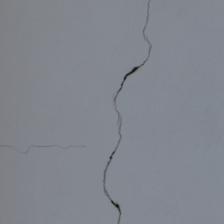Crack: (22, 90, 146, 109), (58, 40, 101, 91), (91, 64, 134, 96)
